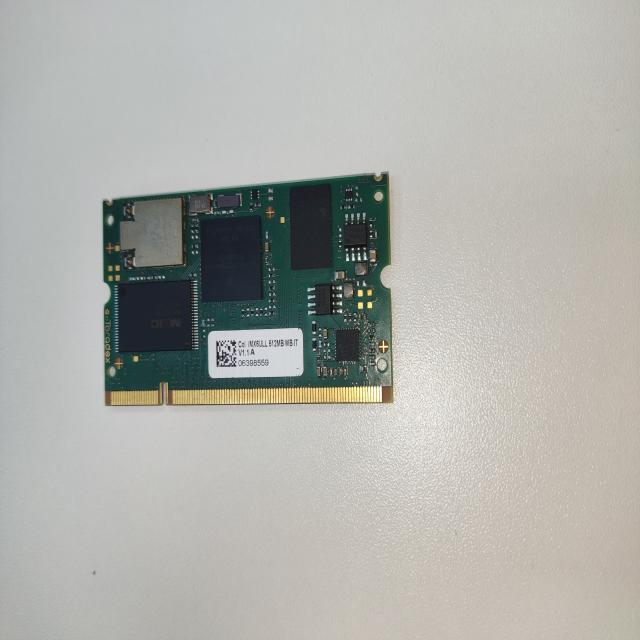som: (96, 170, 407, 419)
